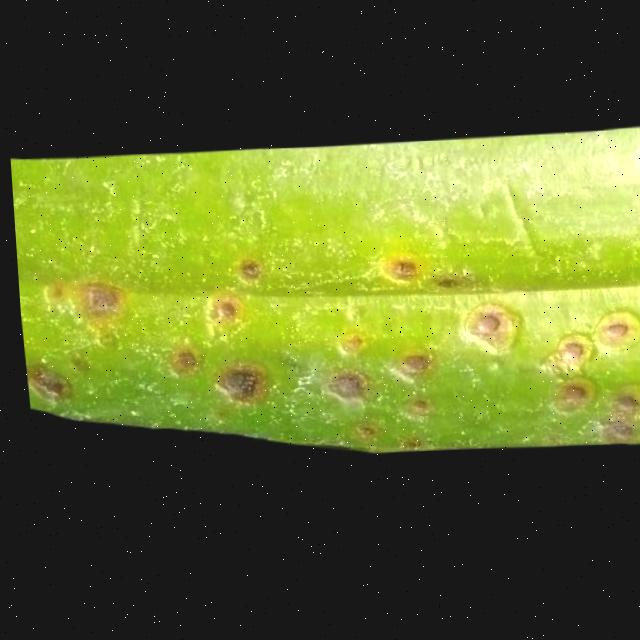mite: (456, 300, 519, 353), (586, 307, 640, 354), (20, 360, 69, 403), (548, 333, 592, 372), (546, 377, 592, 414), (319, 367, 366, 403), (79, 281, 121, 316), (202, 293, 242, 326), (380, 254, 420, 283), (163, 345, 198, 377), (394, 348, 432, 377), (233, 255, 261, 282)
